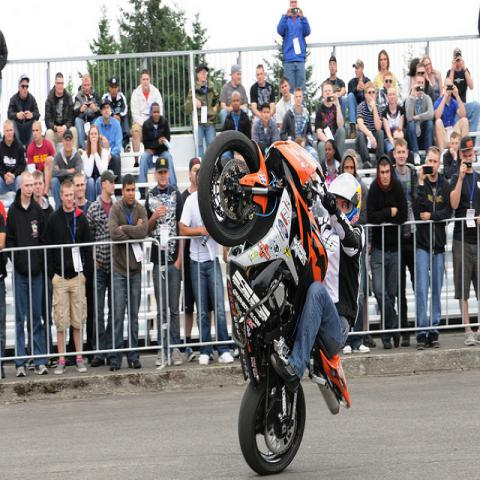motorcycle: (196, 121, 361, 471)
